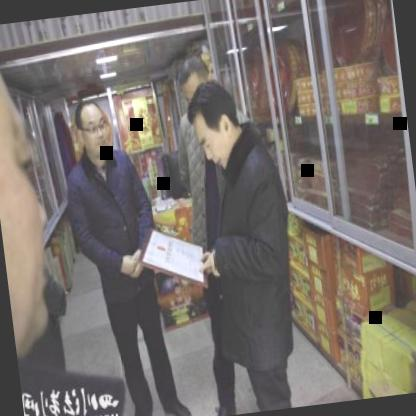head: (0, 25, 63, 347), (184, 71, 246, 169), (73, 93, 114, 164), (174, 52, 207, 114)
